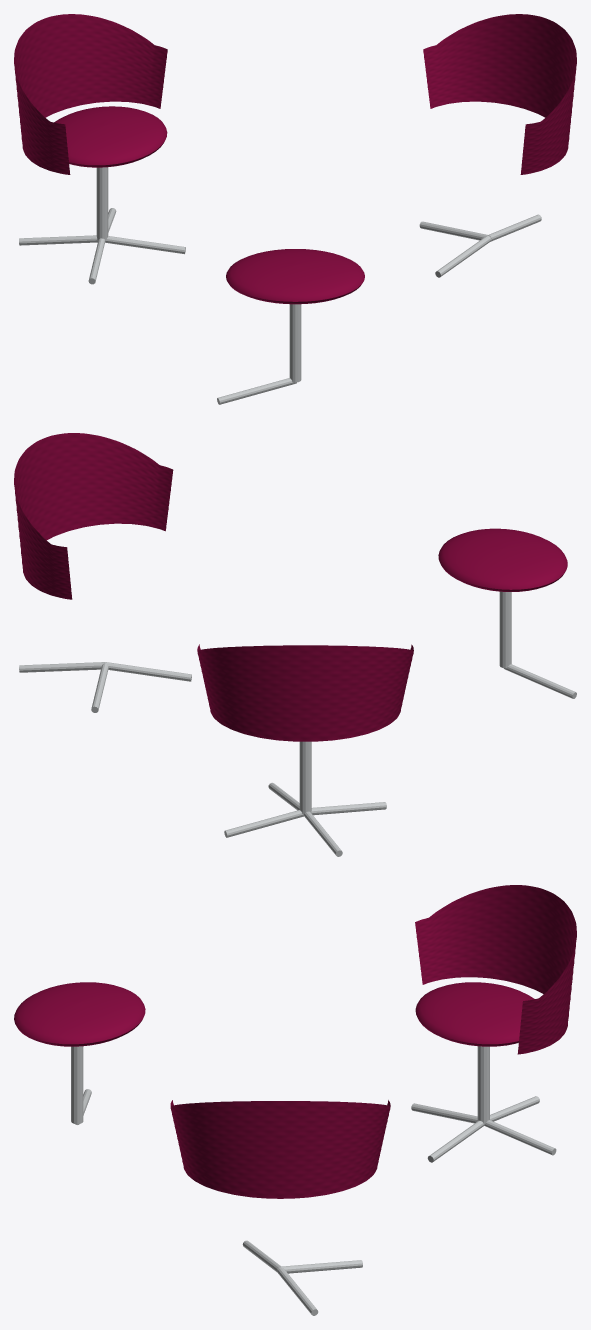
Rendered from SM_L2_Furniture_Solid_788bce91b1_2.fbx.
3 renders of one model, top to bottom at view 1: azimuth 30°, elevation 25°; view 2: azimuth 150°, elevation 25°; view 3: azimuth 270°, elevation 25°, orthographic. The views are drawn at different scales.
Visible parts, largest first — view 1: SM_L2_Furniture_Solid_788bce91b1_2; view 2: SM_L2_Furniture_Solid_788bce91b1_2; view 3: SM_L2_Furniture_Solid_788bce91b1_2.
Boxes of the visible parts, box(x1,y1,x2,y2) form: SM_L2_Furniture_Solid_788bce91b1_2: box(14, 14, 576, 404); SM_L2_Furniture_Solid_788bce91b1_2: box(14, 433, 576, 856); SM_L2_Furniture_Solid_788bce91b1_2: box(14, 885, 576, 1315).
Bounding box in the file's own units: 1.85 × 1.92 × 0.8179.
